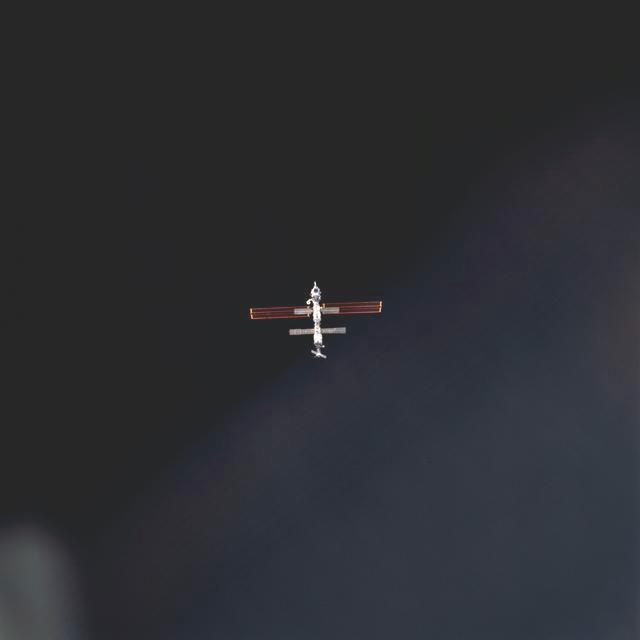medium_debris: (221, 257, 405, 380)
